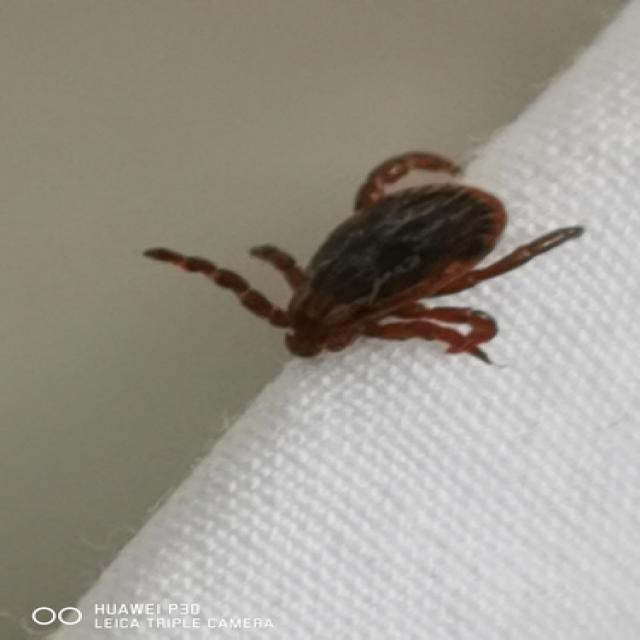Dermacentor Reticulatus-M: (147, 154, 584, 361)
